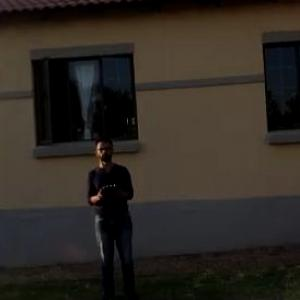follow: (82, 128, 139, 299)
